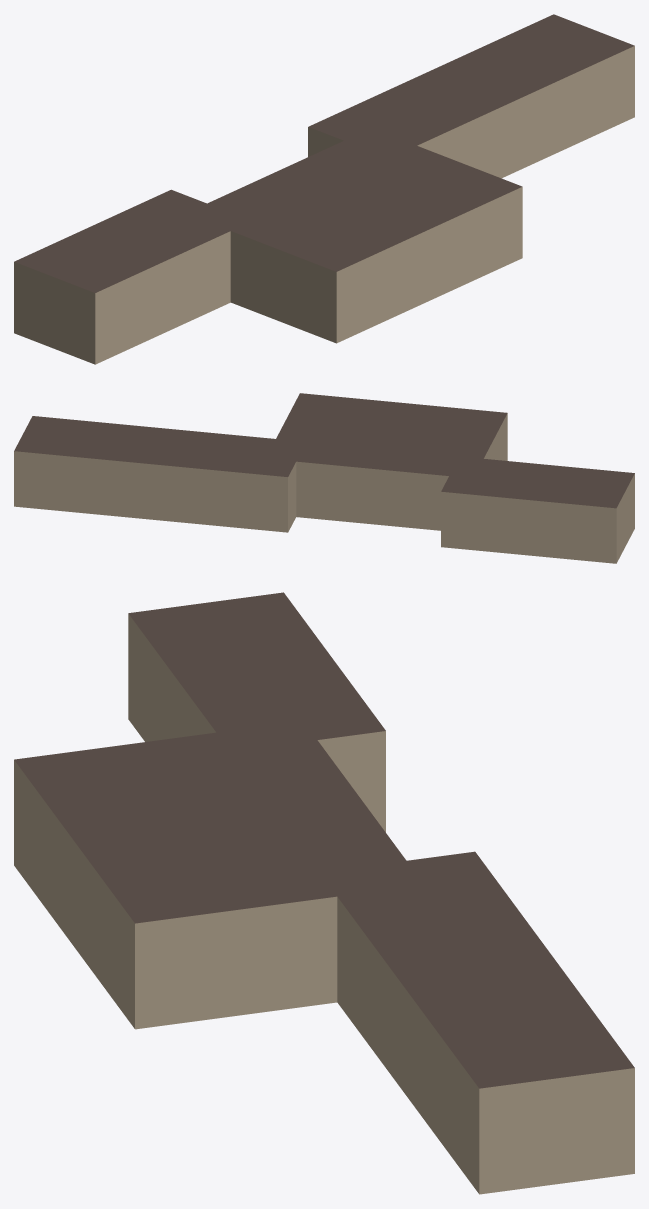
3 views of the same model, one above another, from view 1: azimuth 30°, elevation 25°; view 2: azimuth 150°, elevation 25°; view 3: azimuth 270°, elevation 25° (orthographic). The views are drawn at different scales.
Parts seen in each view (by area): view 1: HP-w859457306; view 2: HP-w859457306; view 3: HP-w859457306.
Part boxes in pixels (x1,y1,x2,y2): HP-w859457306: (14,14,634,364); HP-w859457306: (14,393,634,563); HP-w859457306: (14,592,634,1194).
Bounding box in the file's own units: 60.32 × 6 × 31.9.
